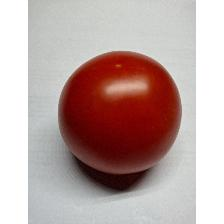Tomate: (58, 47, 184, 177)
